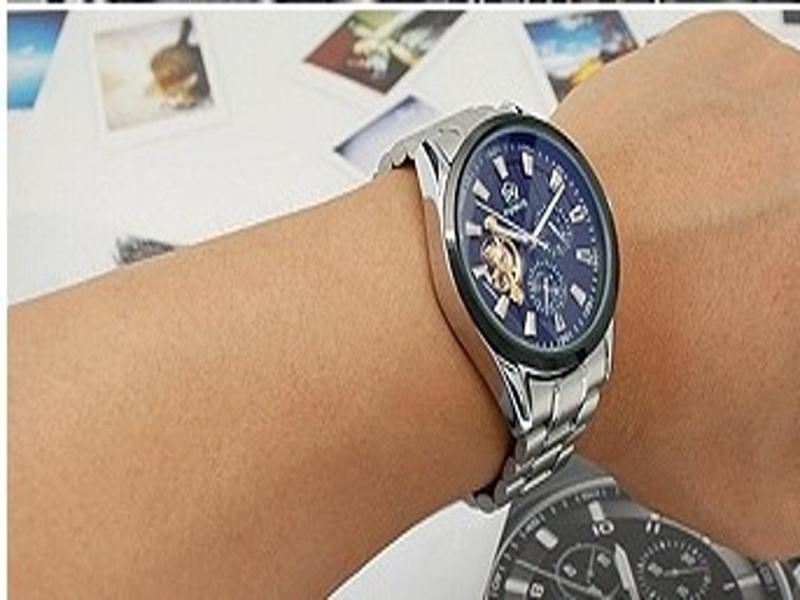watch: (376, 103, 624, 513)
